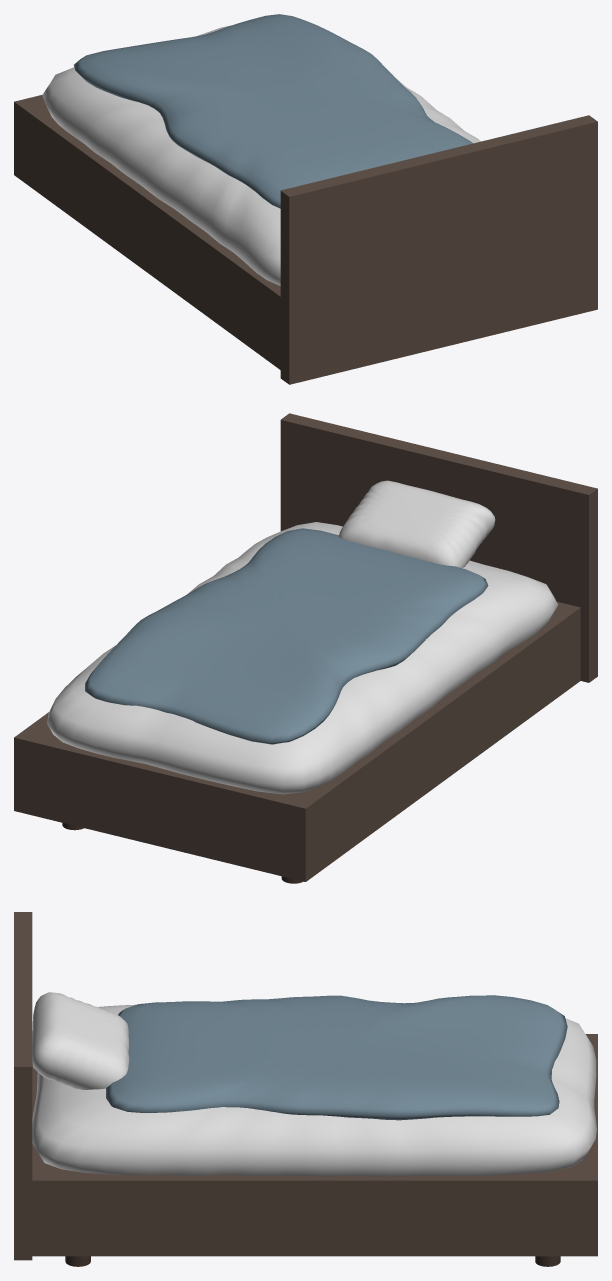
The model's file is Lit1_1.fbx.
3 views of the same model, one above another, from view 1: azimuth 30°, elevation 25°; view 2: azimuth 150°, elevation 25°; view 3: azimuth 270°, elevation 25° (orthographic). The views are drawn at different scales.
Visible parts, largest first — view 1: pCube2134, pCylinder1816, pCube2135, pCylinder1506; view 2: pCylinder1816, pCube2135, pCylinder1506, pCube2134, pCylinder1507; view 3: pCylinder1816, pCube2135, pCylinder1506, pCylinder1507, pCube2134, pCylinder1508.
Part boxes in pixels (x1,y1,x2,y2): pCube2134: (280, 115, 597, 384); pCylinder1816: (74, 14, 472, 208); pCube2135: (14, 94, 280, 369); pCylinder1506: (42, 25, 480, 285); pCylinder1816: (85, 528, 488, 744); pCube2135: (14, 602, 580, 881); pCylinder1506: (47, 522, 558, 794); pCube2134: (280, 413, 597, 682); pCylinder1507: (338, 480, 495, 567); pCylinder1816: (106, 995, 567, 1120); pCube2135: (32, 1034, 597, 1256); pCylinder1506: (32, 1004, 596, 1176); pCylinder1507: (32, 992, 129, 1089); pCube2134: (14, 912, 32, 1260); pCylinder1508: (65, 1256, 560, 1266).
Bounding box in the file's own units: 89.96 × 58.72 × 143.
